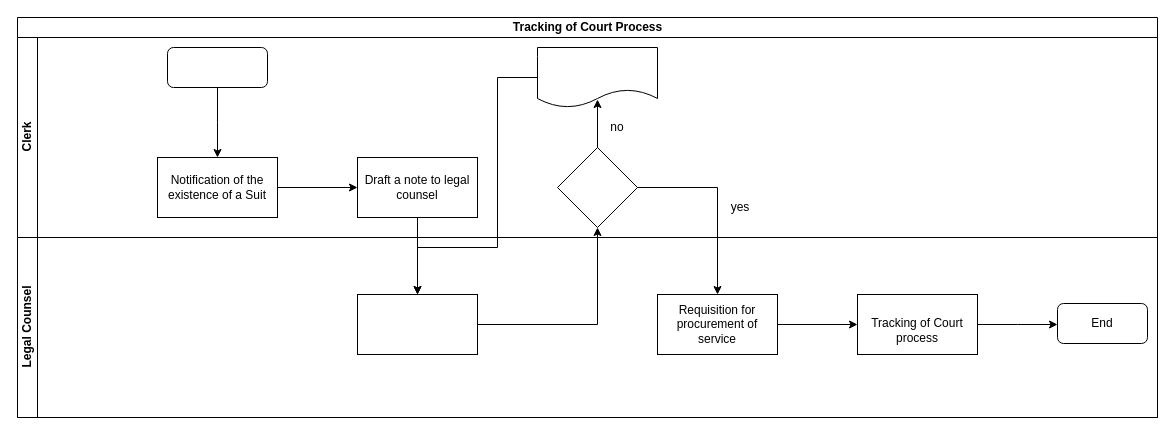
Image size: 1175x435. Some labels were removed from this diagram. Each missing label, with the centre of its shape:
"Lodge request to engage external advocate" goes at pixel 417 324.
"Notify legal counsel" goes at pixel 597 77.
"Request approved?" goes at pixel 597 187.
"Start" goes at pixel 217 67.
